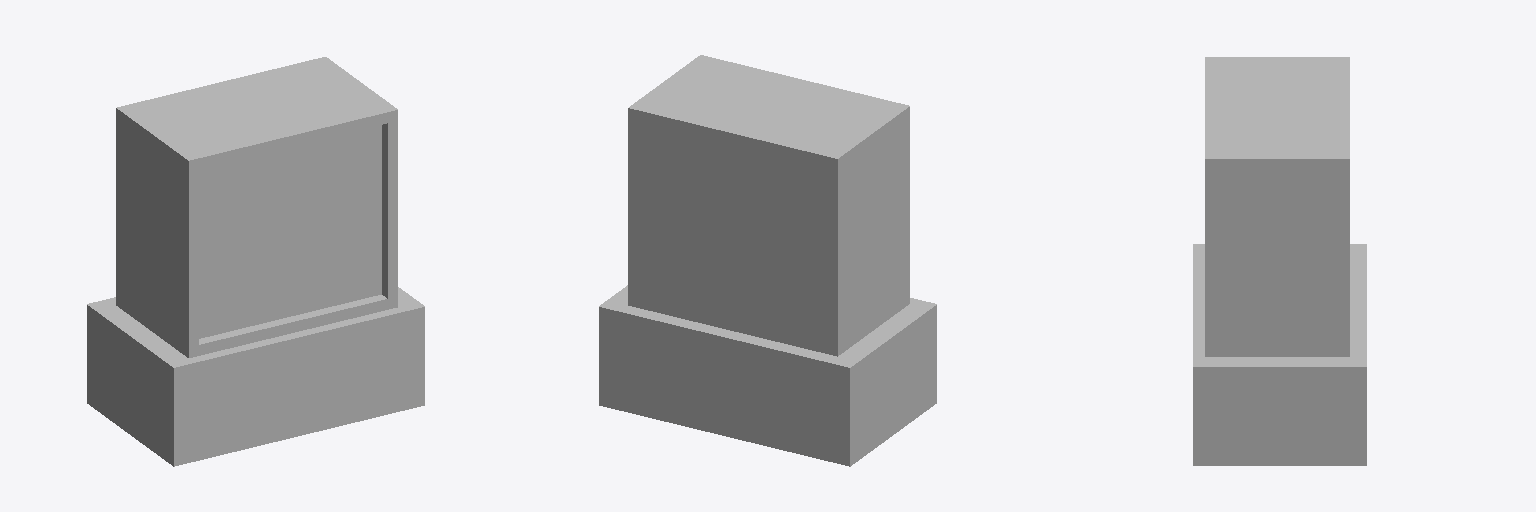
Rendered from computer.obj.
The picture shows the model from 3 angles: view 1: azimuth 30°, elevation 25°; view 2: azimuth 150°, elevation 25°; view 3: azimuth 270°, elevation 25°; orthographic projection.
Visible parts, largest first — view 1: Computer; view 2: Computer; view 3: Computer.
Boxes of the visible parts, box(x1,y1,x2,y2) form: Computer: box(87, 57, 424, 466); Computer: box(599, 55, 936, 466); Computer: box(1193, 57, 1366, 465).
Size of the model in its own units: 24 by 27 by 14.4.